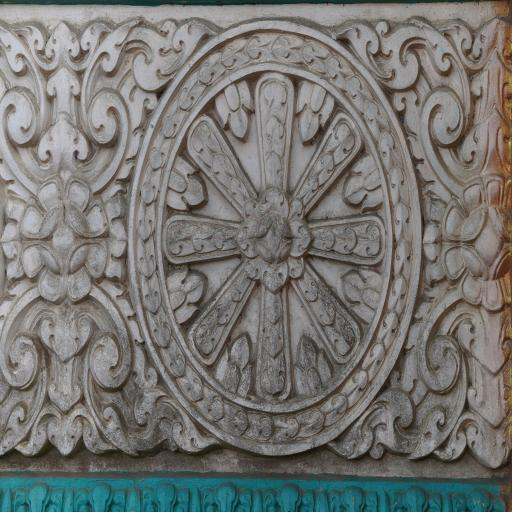hoa: (127, 21, 428, 464), (14, 172, 116, 302), (442, 162, 512, 305)
la: (0, 22, 134, 184), (7, 284, 140, 406)
